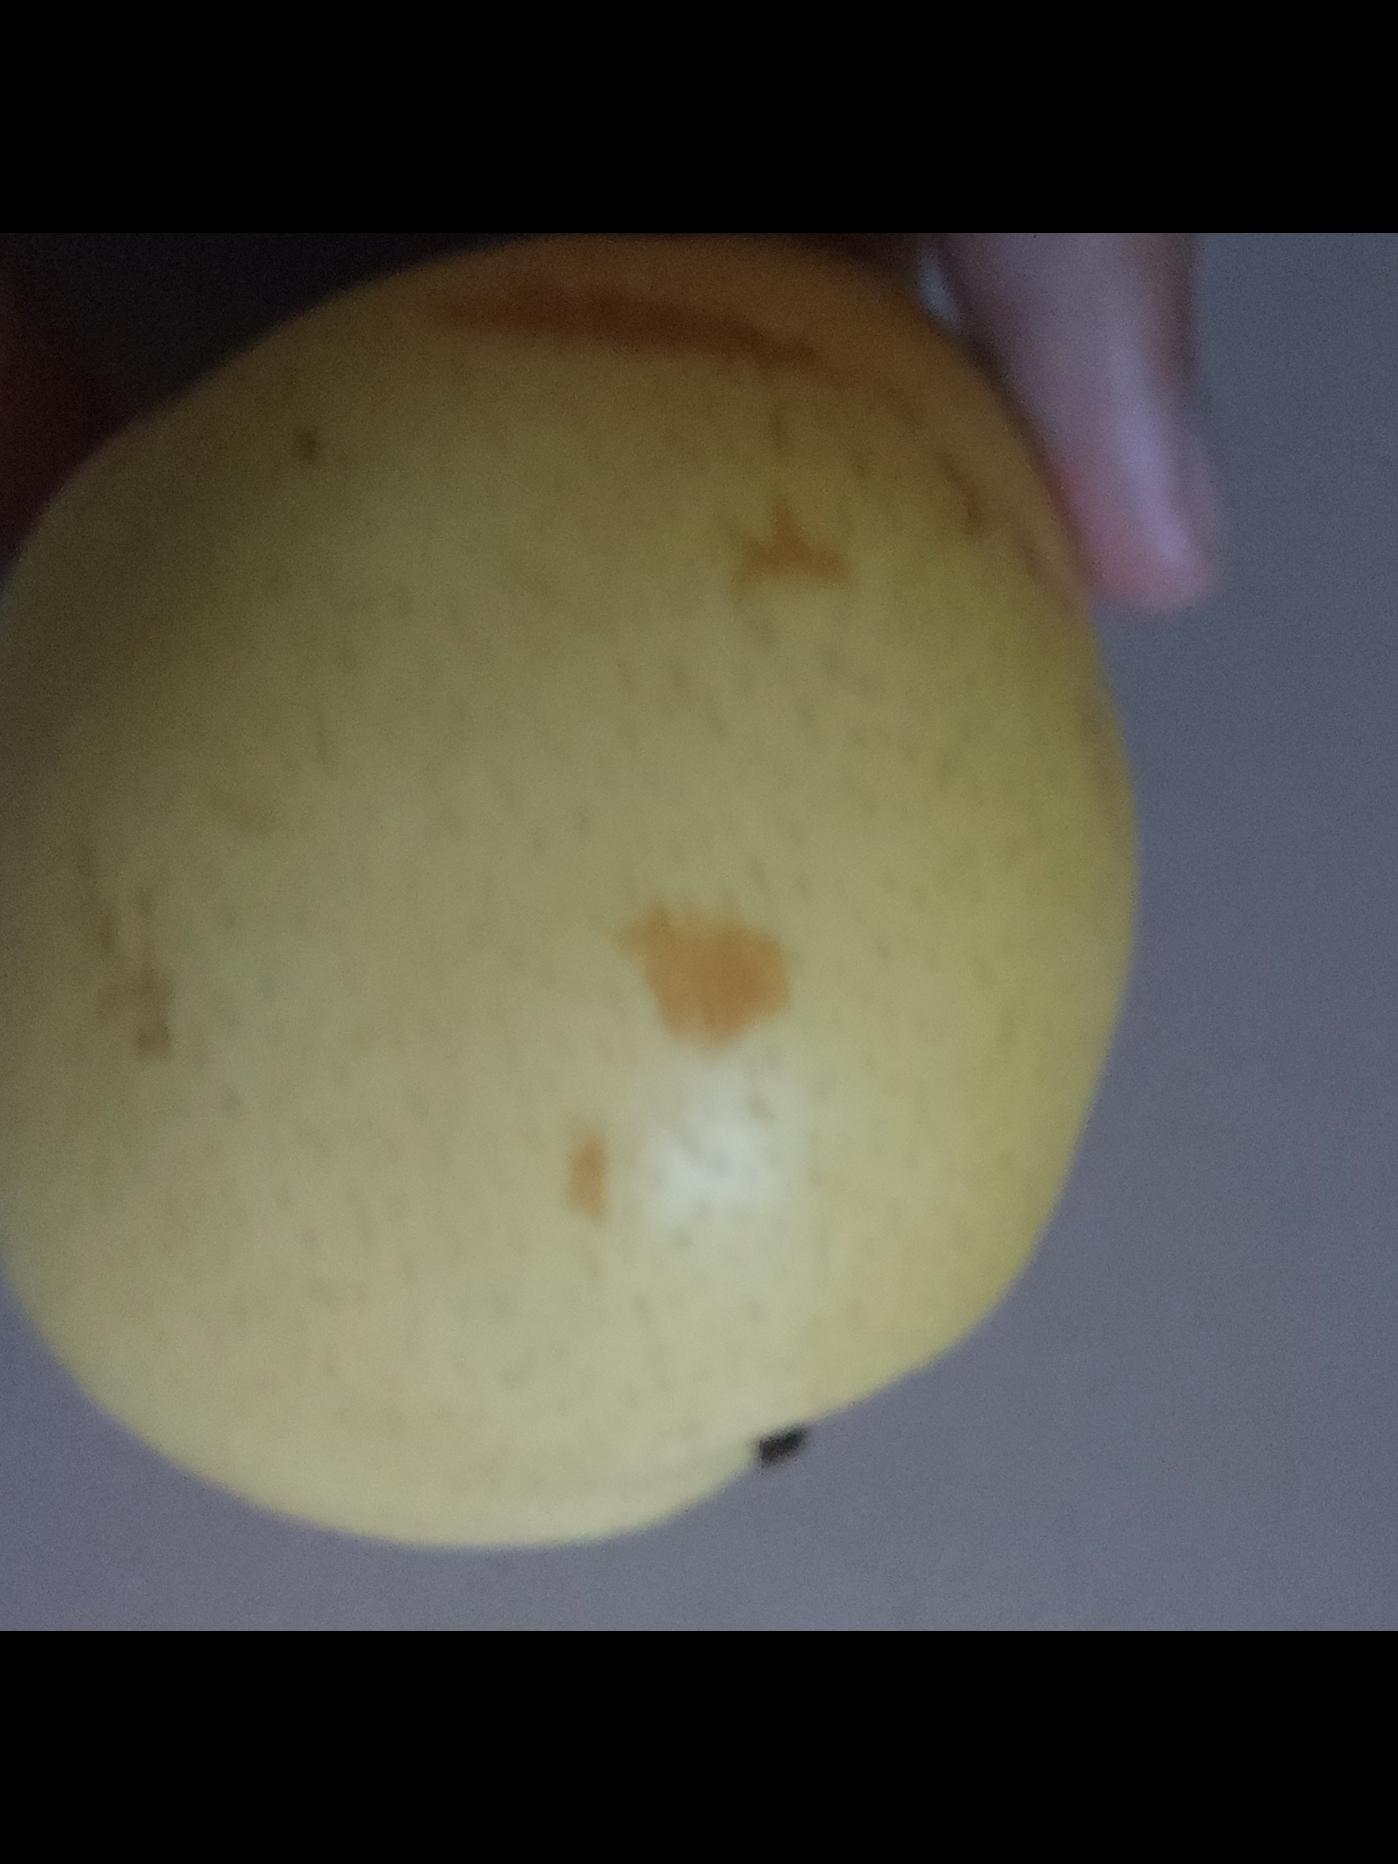Good Pear: (0, 233, 1167, 1569)
